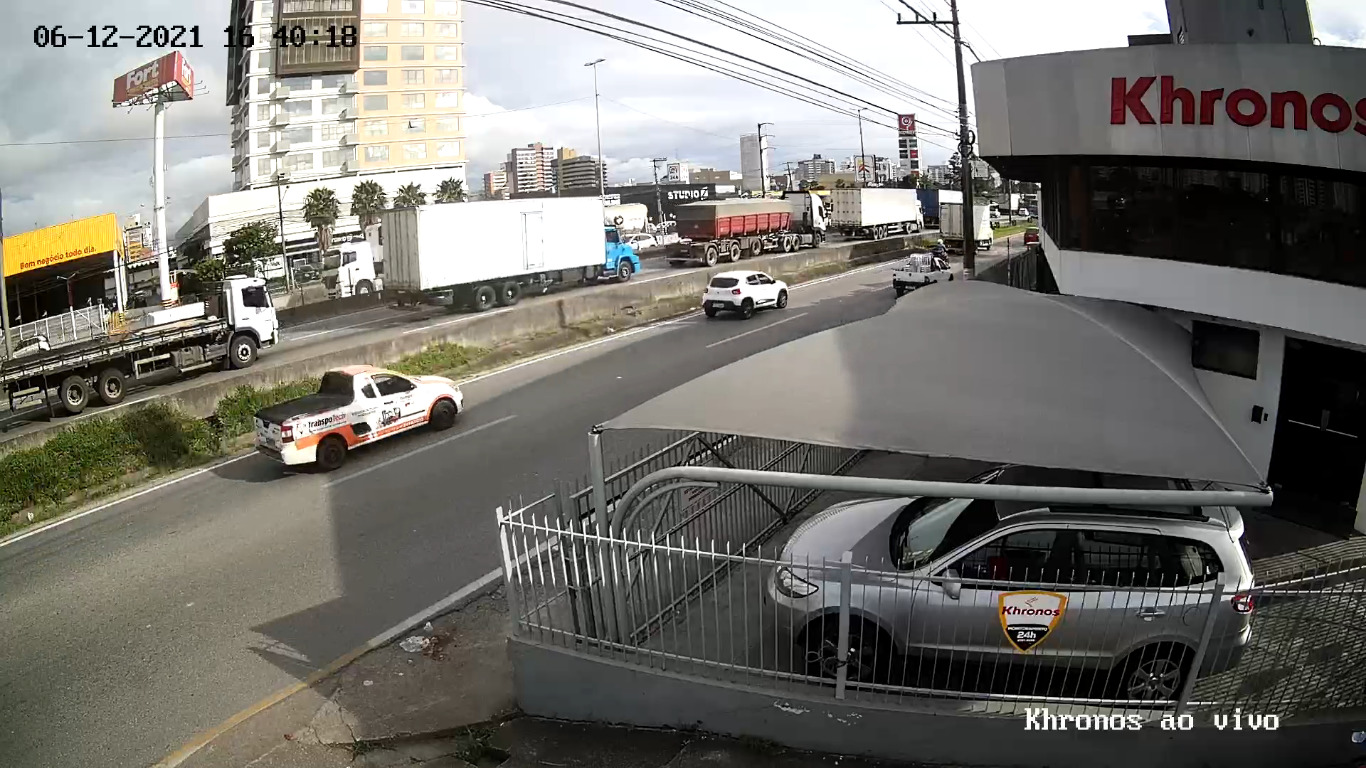car: (255, 365, 466, 473), (702, 271, 788, 319)
